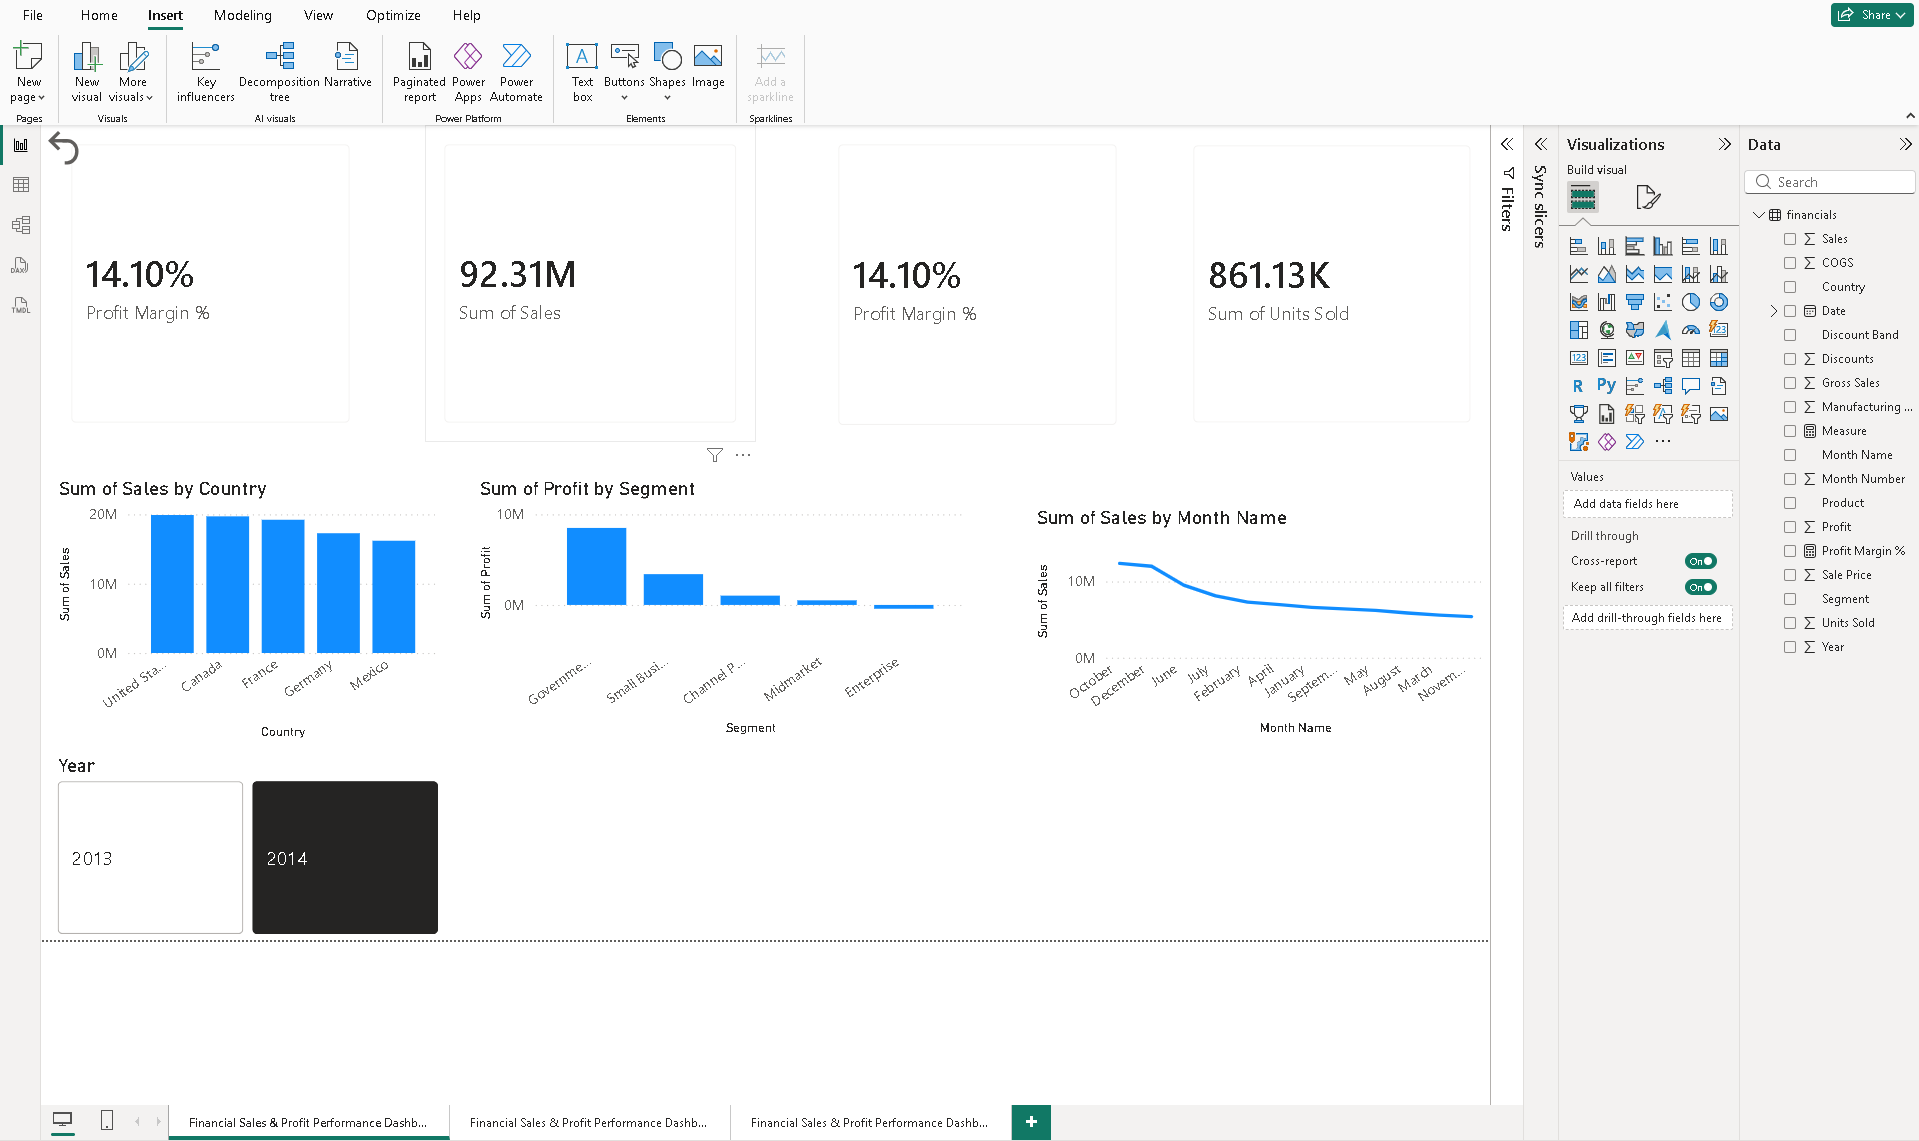

What the dashboard file says about the page in this screenshot:
{"tool":"powerbi","page":{"name":"Financial Sales & Profit Performance Dashboard","canvas":[1280,720],"ordinal":0},"visuals":[{"type":"cardVisual","fields":{"Data":["financials.Profit Margin %"]},"box":[10,0,280,280],"z":0},{"type":"cardVisual","fields":{"Data":["Sum(financials. Sales)"]},"box":[339,0,292.4,280.3],"z":1000},{"type":"cardVisual","fields":{"Data":["financials.Profit Margin %"]},"box":[687.4,0,280.3,282.9],"z":2000},{"type":"cardVisual","fields":{"Data":["Sum(financials.Units Sold)"]},"box":[1000.5,0.9,279.5,279.5],"z":3000},{"type":"clusteredColumnChart","fields":{"Y":["Sum(financials. Sales)"],"Category":["financials.Country"]},"box":[10.4,311.4,345.9,235.5],"z":4000},{"type":"clusteredColumnChart","fields":{"Y":["Sum(financials.Profit)"],"Category":["financials.Segment"]},"box":[382.1,311.4,439.9,232],"z":5000},{"type":"lineChart","fields":{"Category":["financials.Month Name"],"Y":["Sum(financials. Sales)"]},"box":[874.6,336.4,405.4,207],"z":6000},{"type":"advancedSlicerVisual","fields":{"Values":["financials.Year"]},"box":[10,556,346,164],"z":6001},{"type":"actionButton","box":[0,0,100,40],"z":6002}]}

Visuals, with their boxes on the page's 1280x720 design canvas (x1, y1, x2, y2). These are canvas units, not pixel positions in the 1919x1141 screenshot, which may show the page scaled, cropped or inside an application window:
cardVisual - financials.Profit Margin %: pyautogui.locateOnScreen(10, 0, 290, 280)
cardVisual - Sum(financials. Sales): pyautogui.locateOnScreen(339, 0, 631, 280)
cardVisual - financials.Profit Margin %: pyautogui.locateOnScreen(687, 0, 968, 283)
cardVisual - Sum(financials.Units Sold): pyautogui.locateOnScreen(1000, 1, 1280, 280)
clusteredColumnChart - Sum(financials. Sales) x financials.Country: pyautogui.locateOnScreen(10, 311, 356, 547)
clusteredColumnChart - Sum(financials.Profit) x financials.Segment: pyautogui.locateOnScreen(382, 311, 822, 543)
lineChart - financials.Month Name x Sum(financials. Sales): pyautogui.locateOnScreen(875, 336, 1280, 543)
advancedSlicerVisual - financials.Year: pyautogui.locateOnScreen(10, 556, 356, 720)
actionButton: pyautogui.locateOnScreen(0, 0, 100, 40)
